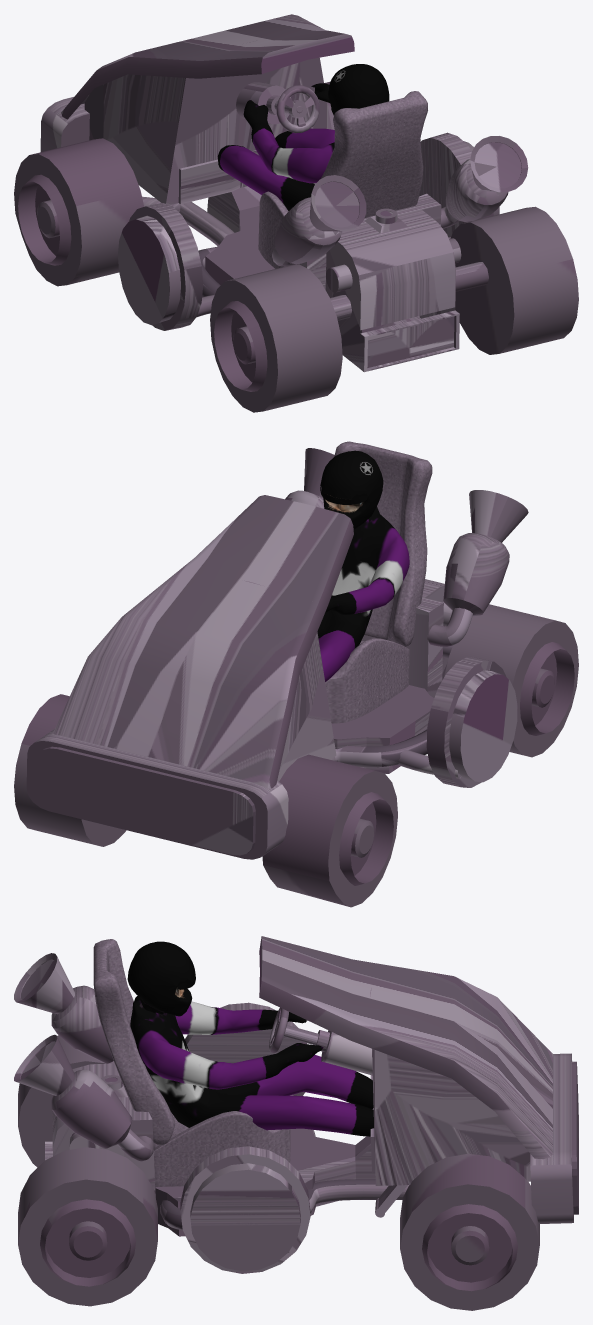
Rendered from Mkartivontsvetomirova(completo).fbx.
The picture shows the model from 3 angles, top to bottom: view 1: azimuth 30°, elevation 25°; view 2: azimuth 150°, elevation 25°; view 3: azimuth 270°, elevation 25°; orthographic projection. The views are drawn at different scales.
Visible parts, largest first — view 1: Coche2, Coche1, piloto; view 2: Coche2, Coche1, piloto; view 3: Coche2, Coche1, piloto.
Boxes of the visible parts, <box> form: Coche2: <box>40,14,528,372</box>; Coche1: <box>14,82,578,412</box>; piloto: <box>217,64,389,210</box>; Coche2: <box>26,441,528,859</box>; Coche1: <box>14,604,578,907</box>; piloto: <box>317,450,409,681</box>; Coche2: <box>14,936,578,1273</box>; Coche1: <box>18,1035,539,1310</box>; piloto: <box>127,941,373,1136</box>.
Size of the model in its own units: 155 by 126 by 220.
